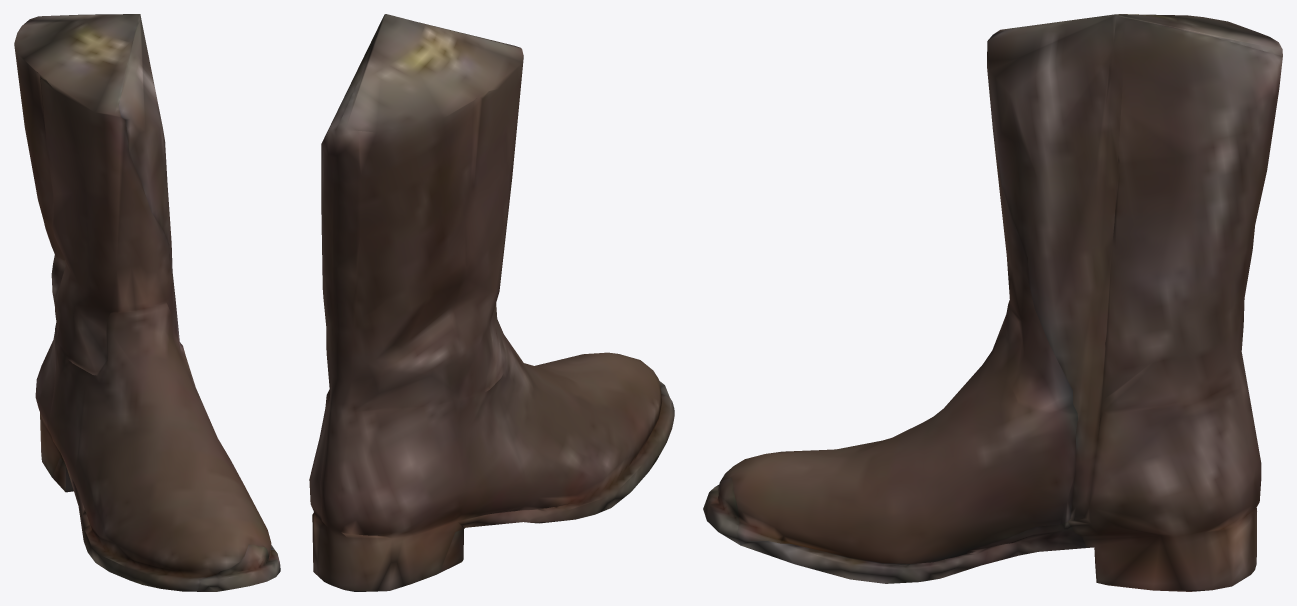
Rendered from Tory_Burch_Kiernan_Riding_Boot-medium.glb.
The picture shows the model from 3 angles, left to right: view 1: azimuth 30°, elevation 25°; view 2: azimuth 150°, elevation 25°; view 3: azimuth 270°, elevation 25°; orthographic projection. The views are drawn at different scales.
Visible parts, largest first — view 1: Tory_Burch_Kiernan_Riding_Boot; view 2: Tory_Burch_Kiernan_Riding_Boot; view 3: Tory_Burch_Kiernan_Riding_Boot.
Part boxes in pixels (x1,y1,x2,y2): Tory_Burch_Kiernan_Riding_Boot: (14,14,280,591); Tory_Burch_Kiernan_Riding_Boot: (309,14,674,591); Tory_Burch_Kiernan_Riding_Boot: (703,14,1282,591).
Bounding box in the file's own units: 0.1019 × 0.2959 × 0.2748.
1 material, 1 textured.
